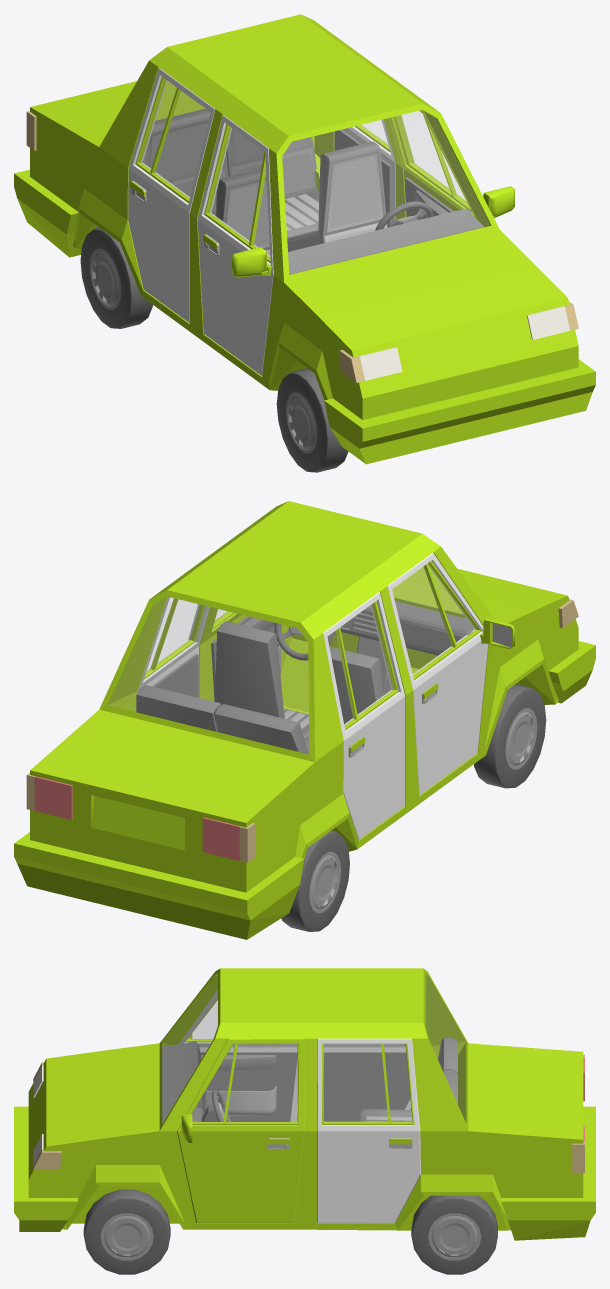
The picture shows the model from 3 angles, top to bottom: view 1: azimuth 30°, elevation 25°; view 2: azimuth 150°, elevation 25°; view 3: azimuth 270°, elevation 25°; orthographic projection. The views are drawn at different scales.
Visible parts, largest first — view 1: Chassis_Chassis_0, Windows_Windows_0, Chassis_Bumpers_0, Interior_InteriorPanel_0, FR_Door_Chassis_0, RR_Door_Chassis_0, Interior_Handler_0, RR_Door_Windows_0, FR_Door_Windows_0, FR_Wheel_Tire_0, RR_Wheel_Tire_0, FR_Door_Bumpers_0 (+11 smaller); view 2: Chassis_Chassis_0, Windows_Windows_0, Chassis_Bumpers_0, Interior_InteriorPanel_0, FR_Door_Chassis_0, RR_Door_Chassis_0, FR_Door_Windows_0, RR_Door_Windows_0, FR_Wheel_Tire_0, RR_Wheel_Tire_0, Brake_Lights_Brake_lights_0, FR_Door_Bumpers_0 (+11 smaller); view 3: Chassis_Chassis_0, FL_Door_Chassis_0, RL_Door_Chassis_0, Chassis_Bumpers_0, Windows_Windows_0, FL_Door_Windows_0, RL_Door_Windows_0, RR_Door_InteriorPanel_0, FL_Wheel_Tire_0, RL_Wheel_Tire_0, FR_Door_InteriorPanel_0, Interior_InteriorPanel_0 (+9 smaller).
Boxes of the visible parts, bbox=[...] form: Chassis_Chassis_0: bbox=[30, 14, 578, 419]; Windows_Windows_0: bbox=[156, 82, 489, 273]; Chassis_Bumpers_0: bbox=[14, 169, 595, 464]; Interior_InteriorPanel_0: bbox=[142, 108, 484, 274]; FR_Door_Chassis_0: bbox=[197, 115, 273, 375]; RR_Door_Chassis_0: bbox=[128, 68, 215, 322]; Interior_Handler_0: bbox=[226, 153, 386, 255]; RR_Door_Windows_0: bbox=[139, 80, 209, 198]; FR_Door_Windows_0: bbox=[208, 127, 269, 258]; FR_Wheel_Tire_0: bbox=[276, 368, 348, 472]; RR_Wheel_Tire_0: bbox=[80, 227, 152, 328]; FR_Door_Bumpers_0: bbox=[203, 124, 271, 277]; Chassis_Chassis_0: bbox=[30, 501, 578, 892]; Windows_Windows_0: bbox=[108, 568, 461, 753]; Chassis_Bumpers_0: bbox=[14, 641, 595, 939]; Interior_InteriorPanel_0: bbox=[136, 601, 473, 754]; FR_Door_Chassis_0: bbox=[387, 553, 488, 795]; RR_Door_Chassis_0: bbox=[323, 592, 405, 839]; FR_Door_Windows_0: bbox=[392, 563, 477, 675]; RR_Door_Windows_0: bbox=[328, 604, 395, 726]; FR_Wheel_Tire_0: bbox=[474, 684, 546, 788]; RR_Wheel_Tire_0: bbox=[281, 830, 349, 931]; Brake_Lights_Brake_lights_0: bbox=[34, 776, 239, 860]; FR_Door_Bumpers_0: bbox=[413, 561, 514, 701]; Chassis_Chassis_0: bbox=[28, 968, 583, 1229]; FL_Door_Chassis_0: bbox=[177, 1038, 304, 1223]; RL_Door_Chassis_0: bbox=[317, 1038, 420, 1223]; Chassis_Bumpers_0: bbox=[14, 1085, 595, 1240]; Windows_Windows_0: bbox=[164, 974, 465, 1120]; FL_Door_Windows_0: bbox=[192, 1044, 297, 1122]; RL_Door_Windows_0: bbox=[324, 1044, 411, 1121]; RR_Door_InteriorPanel_0: bbox=[324, 1052, 410, 1121]; FL_Wheel_Tire_0: bbox=[83, 1189, 170, 1274]; RL_Wheel_Tire_0: bbox=[411, 1195, 497, 1274]; FR_Door_InteriorPanel_0: bbox=[200, 1052, 297, 1121]; Interior_InteriorPanel_0: bbox=[162, 1038, 457, 1123].
Bounding box in the file's own units: 5.2 × 4.99 × 11.18.
